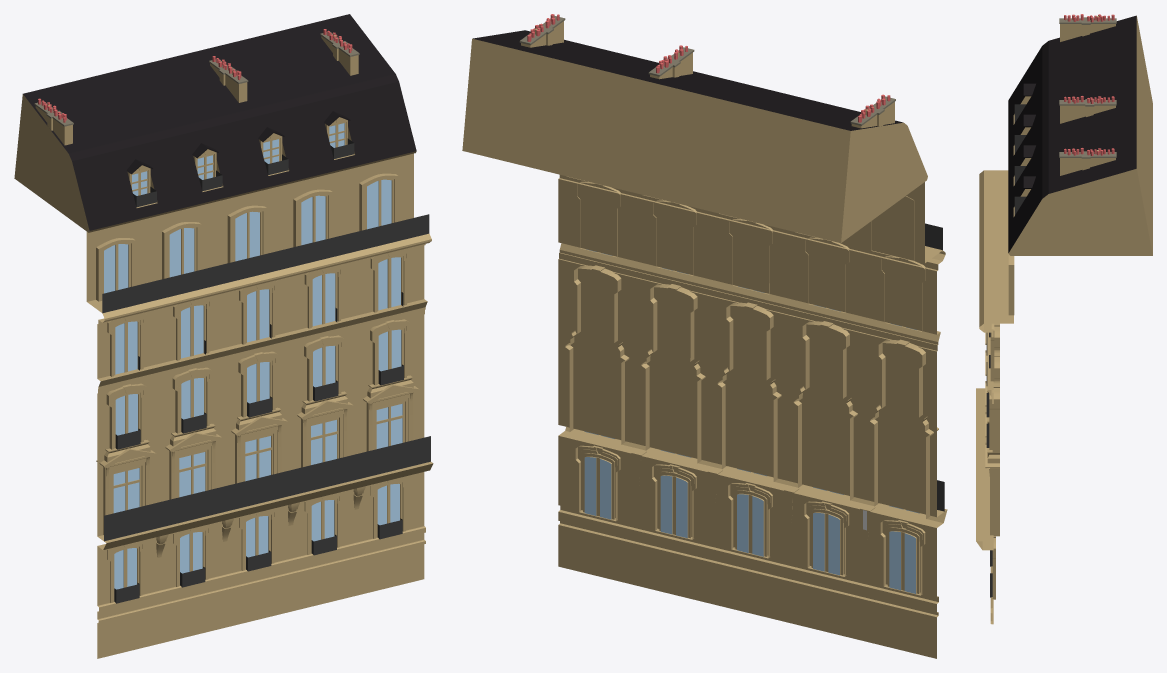
The model's file is building.glb.
3 renders of one model, left to right at view 1: azimuth 30°, elevation 25°; view 2: azimuth 150°, elevation 25°; view 3: azimuth 270°, elevation 25°, orthographic. The views are drawn at different scales.
Parts seen in each view (by area): view 1: Facade, Door_2, Door_4, Door_3, Door_1, Door_5, Ornament, Chimney, Chimney_2, Chimney_1; view 2: Facade, Door_1, Door_2, Door_3, Ornament, Chimney_2, Chimney_1, Chimney; view 3: Facade, Door_2, Door_5, Chimney_2, Chimney_1, Chimney, Door_4, Door_1, Door_3, Chimney_Cylinders.001, Chimney_Cylinders, Chimney_Cylinders.002.
Part boxes in pixels (bbox=[...]): Facade: bbox=[14, 14, 433, 658]; Door_2: bbox=[96, 319, 419, 534]; Door_4: bbox=[96, 173, 398, 301]; Door_3: bbox=[107, 248, 409, 376]; Door_1: bbox=[107, 476, 408, 603]; Door_5: bbox=[126, 111, 354, 207]; Ornament: bbox=[156, 486, 365, 557]; Chimney: bbox=[209, 59, 248, 102]; Chimney_2: bbox=[34, 101, 73, 145]; Chimney_1: bbox=[320, 32, 359, 75]; Facade: bbox=[462, 30, 947, 658]; Door_1: bbox=[575, 445, 925, 595]; Door_2: bbox=[565, 265, 938, 519]; Door_3: bbox=[577, 181, 925, 331]; Ornament: bbox=[631, 449, 875, 542]; Chimney_2: bbox=[850, 96, 895, 128]; Chimney_1: bbox=[519, 15, 565, 47]; Chimney: bbox=[648, 47, 694, 79]; Facade: bbox=[976, 15, 1152, 624]; Door_2: bbox=[985, 323, 999, 536]; Door_5: bbox=[1014, 83, 1035, 215]; Chimney_2: bbox=[1059, 16, 1116, 41]; Chimney_1: bbox=[1059, 150, 1116, 175]; Chimney: bbox=[1059, 99, 1116, 123]; Door_4: bbox=[1008, 254, 1014, 315]; Door_1: bbox=[990, 536, 995, 599]; Door_3: bbox=[989, 323, 994, 381]; Chimney_Cylinders.001: bbox=[1064, 14, 1114, 22]; Chimney_Cylinders: bbox=[1064, 96, 1114, 103]; Chimney_Cylinders.002: bbox=[1064, 148, 1114, 155].
Bounding box in the file's own units: 2.89 × 4.33 × 1.41.
